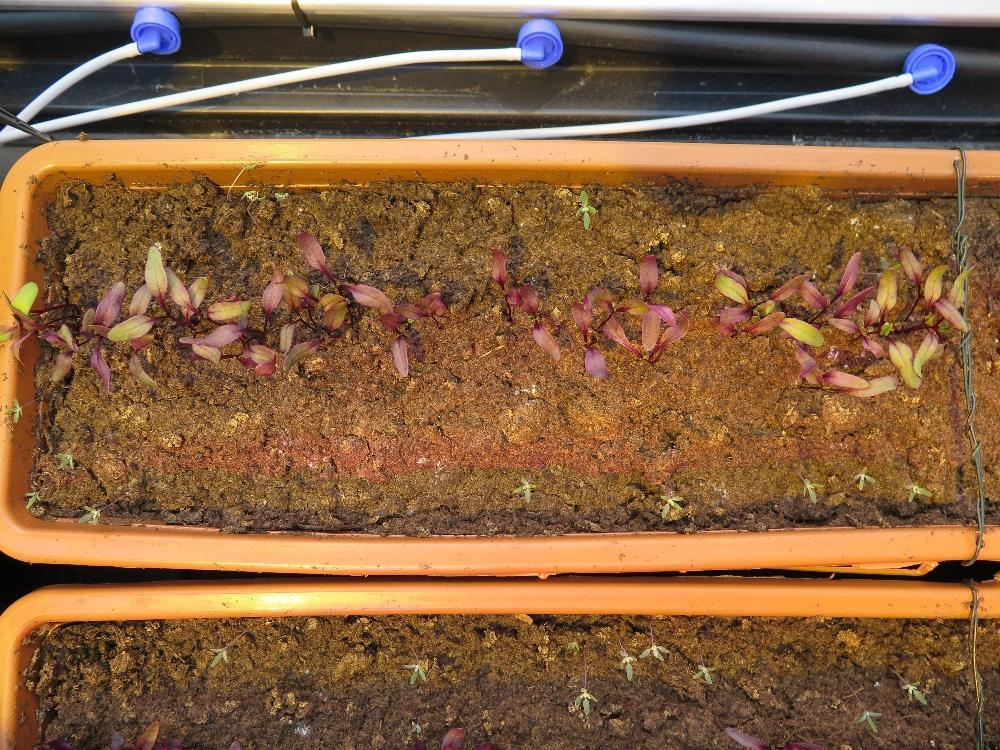weed: (574, 187, 597, 230), (570, 684, 597, 715), (902, 478, 933, 503), (638, 639, 669, 664), (900, 678, 927, 706), (52, 442, 75, 473), (75, 500, 101, 526), (512, 475, 536, 503), (659, 492, 683, 520), (855, 709, 881, 734), (801, 475, 824, 503), (689, 660, 715, 684), (2, 396, 22, 427), (851, 464, 875, 489), (618, 648, 636, 681), (402, 660, 426, 684), (207, 642, 228, 668), (19, 487, 41, 509), (563, 638, 581, 653)
